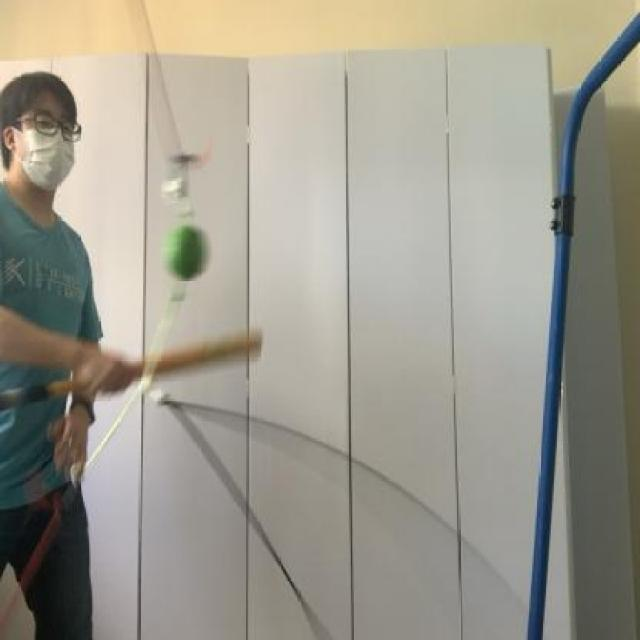baseball: (162, 214, 218, 297)
